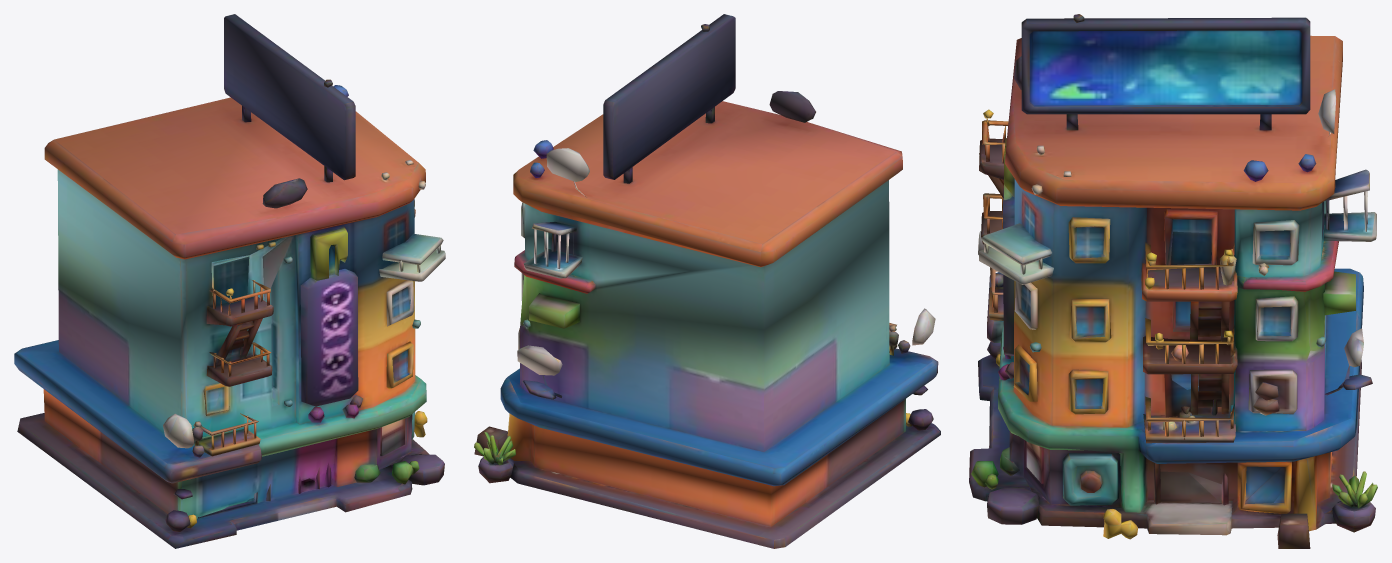
Rendered from bld-tower.glb.
The picture shows the model from 3 angles, left to right: view 1: azimuth 30°, elevation 25°; view 2: azimuth 150°, elevation 25°; view 3: azimuth 270°, elevation 25°; orthographic projection. The views are drawn at different scales.
Visible parts, largest first — view 1: tripo_node_8ed5a86d-e934-4386-be7b-287f9d28d3fc; view 2: tripo_node_8ed5a86d-e934-4386-be7b-287f9d28d3fc; view 3: tripo_node_8ed5a86d-e934-4386-be7b-287f9d28d3fc.
Boxes of the visible parts, x1=… form: tripo_node_8ed5a86d-e934-4386-be7b-287f9d28d3fc: x1=14, y1=14, x2=445, y2=548; tripo_node_8ed5a86d-e934-4386-be7b-287f9d28d3fc: x1=474, y1=14, x2=940, y2=548; tripo_node_8ed5a86d-e934-4386-be7b-287f9d28d3fc: x1=969, y1=14, x2=1377, y2=548.
Size of the model in its own units: 0.8789 by 0.998 by 0.8027.
Materials: 1 (1 with a texture image).
